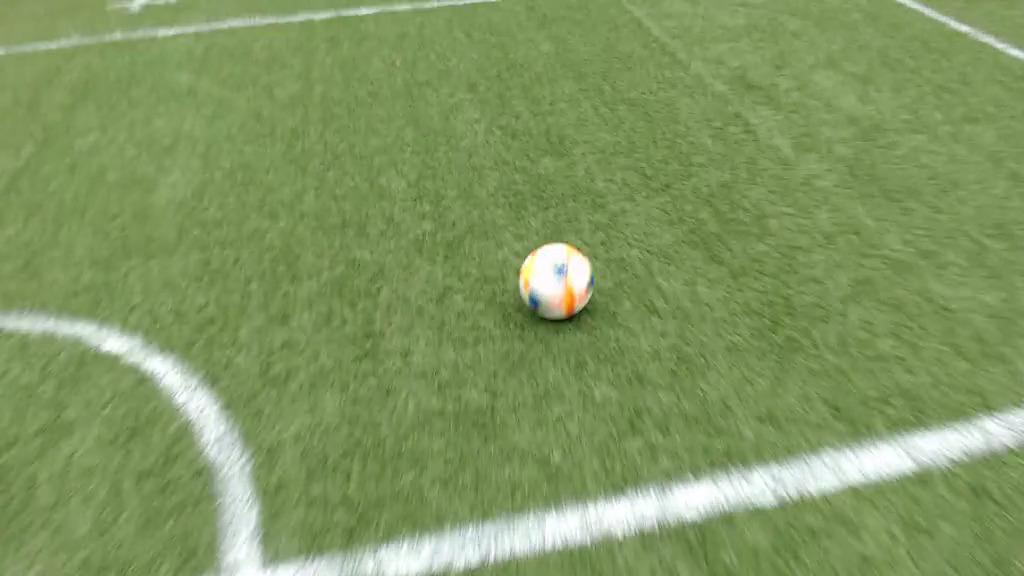ball: (519, 244, 593, 320)
